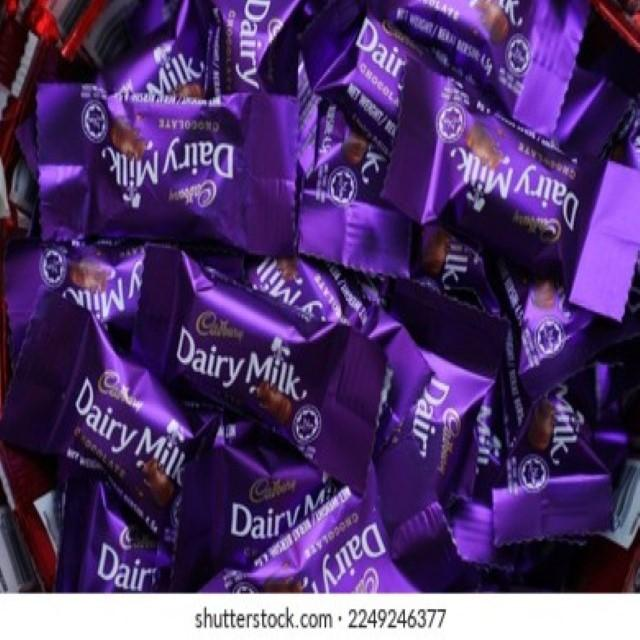cadbury_chocolate: (143, 257, 365, 445), (49, 93, 304, 237), (420, 66, 598, 262), (13, 312, 175, 493), (200, 465, 368, 573), (310, 12, 412, 126), (410, 328, 470, 505), (193, 12, 287, 85)
